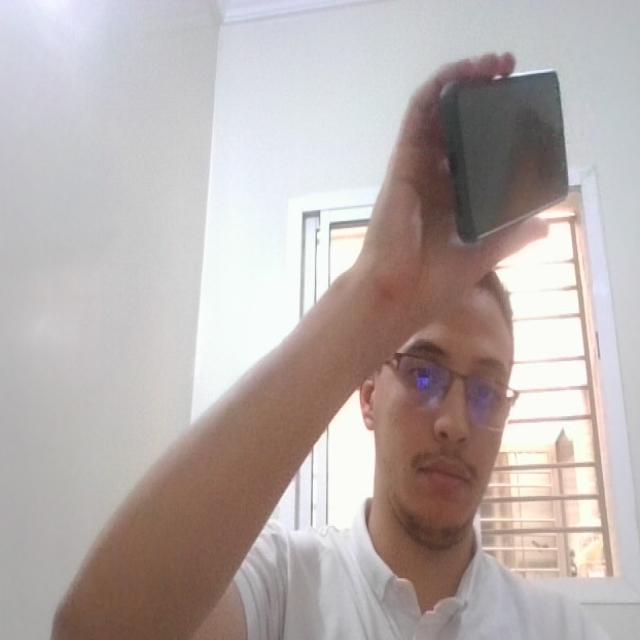phone: (436, 64, 582, 252)
